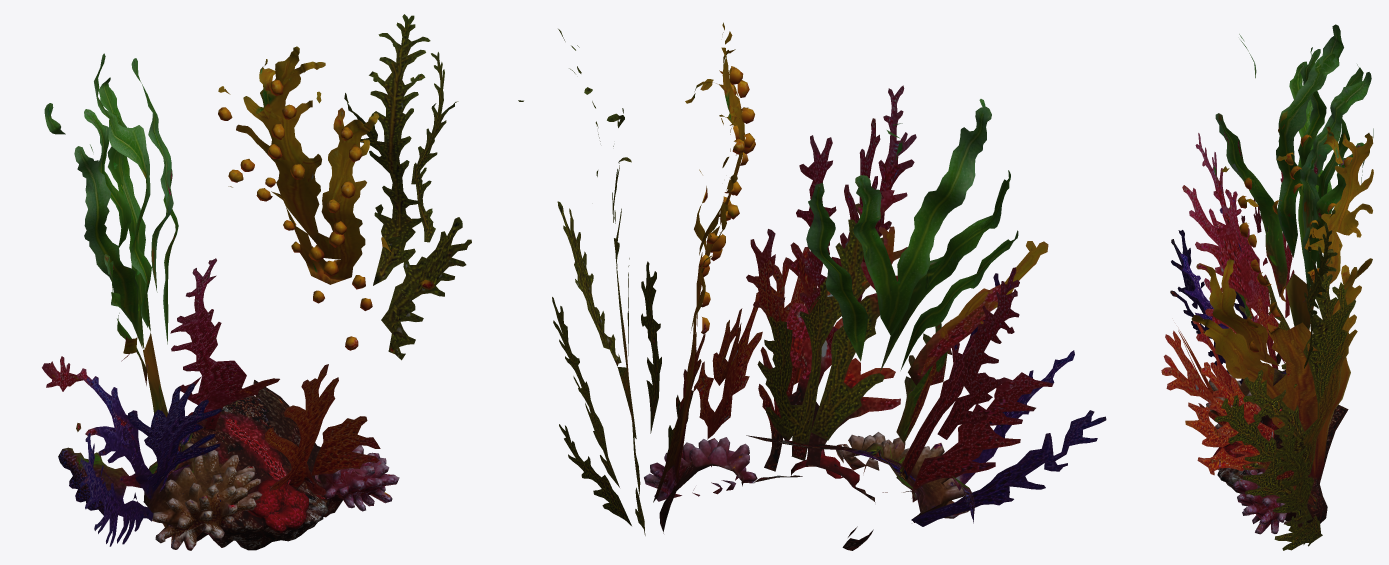
The model's file is coral3.glb.
3 renders of one model, left to right at view 1: azimuth 30°, elevation 25°; view 2: azimuth 150°, elevation 25°; view 3: azimuth 270°, elevation 25°, orthographic. The views are drawn at different scales.
Parts seen in each view (by area): view 1: fa0b70a0-1549-4ea8-a437-8ffe61b229d6; view 2: fa0b70a0-1549-4ea8-a437-8ffe61b229d6; view 3: fa0b70a0-1549-4ea8-a437-8ffe61b229d6.
Part boxes in pixels (x1,y1,x2,y2): fa0b70a0-1549-4ea8-a437-8ffe61b229d6: (42,14,471,550); fa0b70a0-1549-4ea8-a437-8ffe61b229d6: (518,22,1106,550); fa0b70a0-1549-4ea8-a437-8ffe61b229d6: (1161,24,1373,550).
Bounding box in the file's own units: 0.9995 × 0.9995 × 0.4595.
1 material, 1 textured.
